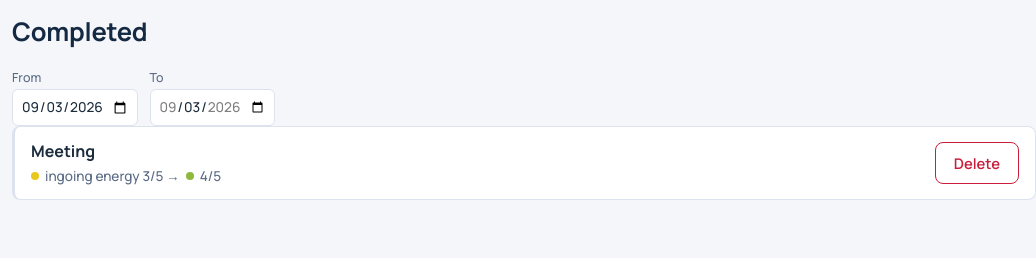
Test case: CompletedPage › shows an error rather than failing silently when deleting fails
This screenshot has width=1036, height=258.
Expected: the text "Meeting" is shown, [31, 140, 95, 162]
Click the button "Delete".
click(977, 163)  # box [935, 142, 1019, 184]
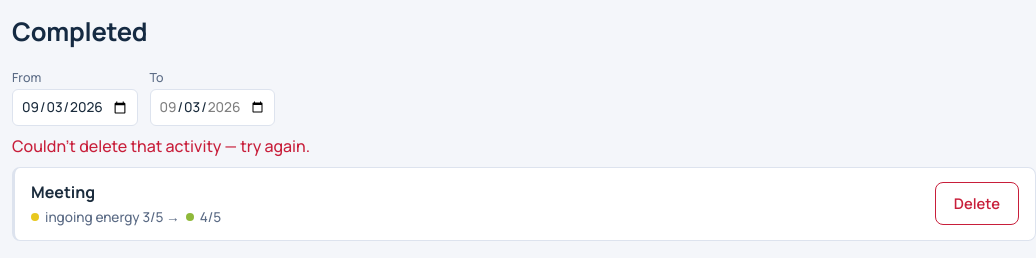
Expected: the text "Couldn't delete that activity — try again." is shown, [12, 135, 310, 157]
